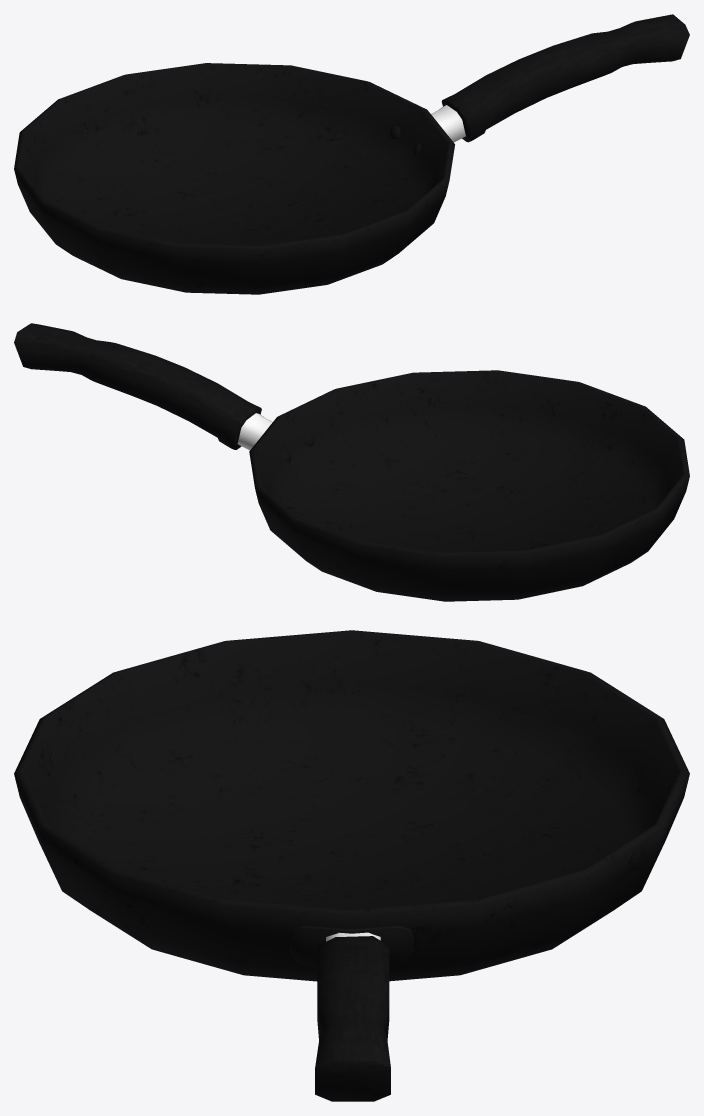
The model's file is Frying Pan.fbx.
3 views of the same model, one above another, from view 1: azimuth 30°, elevation 25°; view 2: azimuth 150°, elevation 25°; view 3: azimuth 270°, elevation 25° (orthographic). The views are drawn at different scales.
Visible parts, largest first — view 1: Metal Dark; view 2: Metal Dark; view 3: Metal Dark.
Boxes of the visible parts, x1=… form: Metal Dark: x1=14, y1=14, x2=689, y2=294; Metal Dark: x1=14, y1=323, x2=689, y2=601; Metal Dark: x1=14, y1=630, x2=689, y2=1101.
Size of the model in its own units: 348 by 53.08 by 210.
